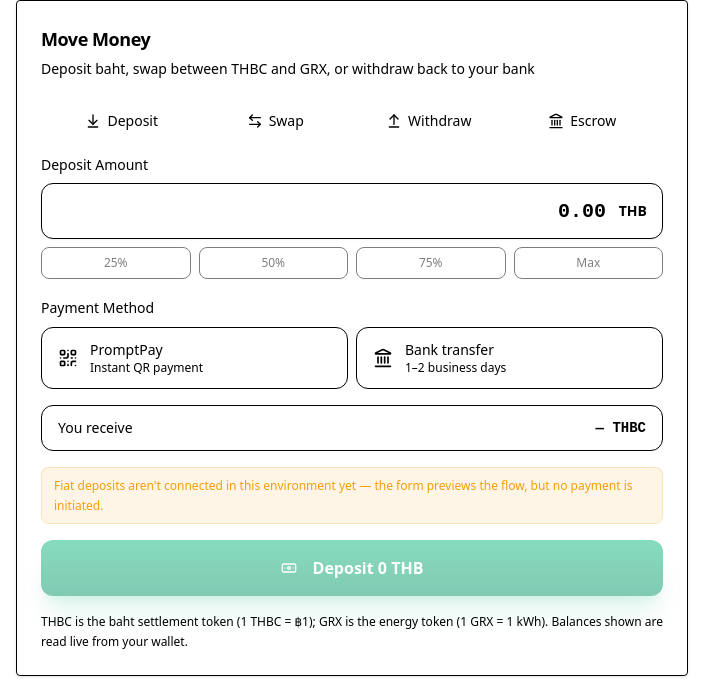
Test: WalletActions › shows live settlement progress for the tracked order
This screenshot has width=705, height=700.
Press the mouse on the tab with test id "swap-tab": x=275, y=121 [198,107,352,135]
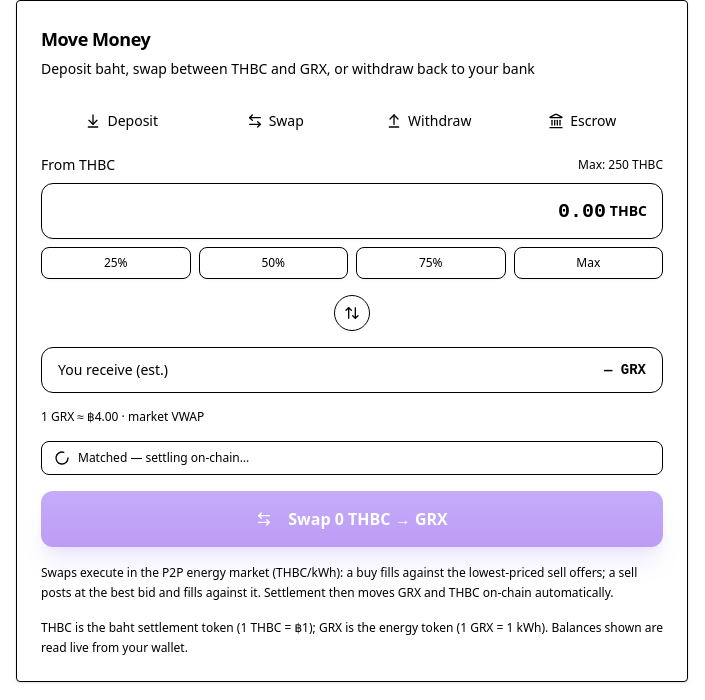
Expected: the element with test id "swap-progress" shows "settling on-chain", [78,449,249,466]
